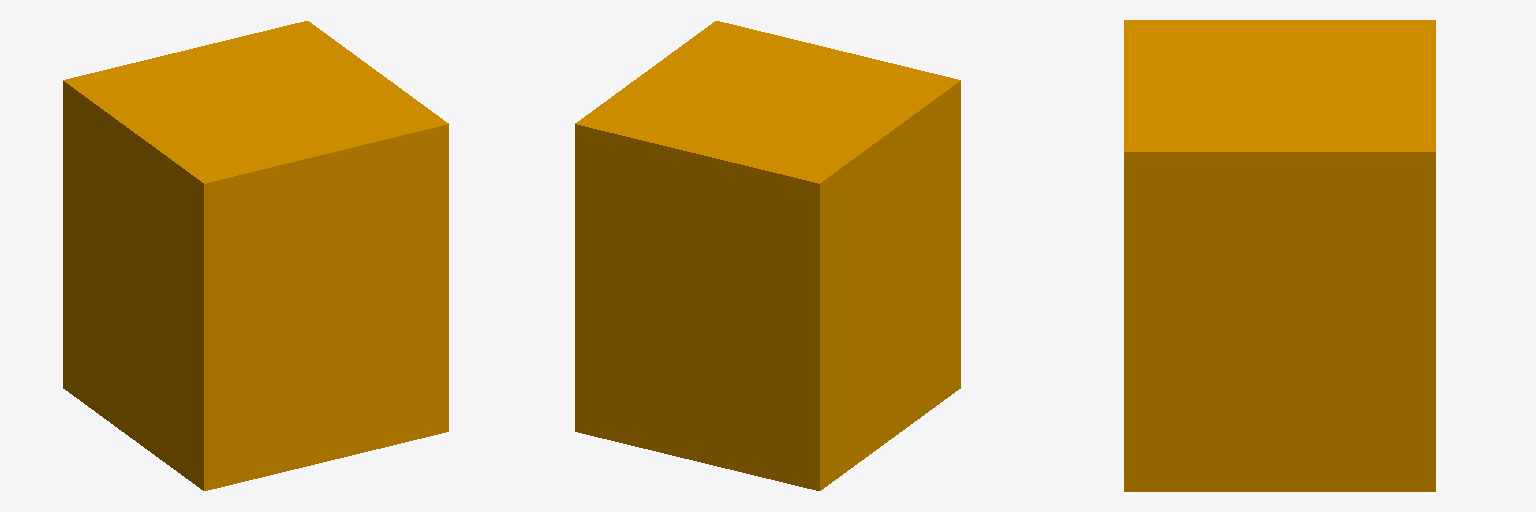
URDF robot description (object):
<?xml version="0.0"?>
	<robot name="object">
		<link name="object">
			<visual>
				<origin xyz="0 0 0"/>
				<geometry>
					<box size="0.5 0.5 0.6"/>
				</geometry>
			</visual>
			<inertial>
				<mass value="15.000"/>
			</inertial>
			<collision>
				<origin xyz="0 0 0"/>
				<geometry>
					<box size="0.5 0.5 0.6"/>
				</geometry>
			</collision>
		</link>

	</robot>

--- Facts derived from the render (not from the file) ---
The picture shows the robot from 3 angles, left to right: view 1: azimuth 30°, elevation 25°; view 2: azimuth 150°, elevation 25°; view 3: azimuth 270°, elevation 25°; orthographic projection.
Robot: object — 1 links, 0 joints (none); root link object; default pose: every joint at zero.
Links seen in each view (by area): view 1: object; view 2: object; view 3: object.
Link boxes in pixels (x1,y1,x2,y2): object: [63, 21, 448, 490]; object: [575, 21, 960, 490]; object: [1124, 20, 1435, 491].
Size in the robot's own frame: 0.5 by 0.5 by 0.6 metres.
Geometry: primitives only (box / cylinder / sphere), no mesh files.